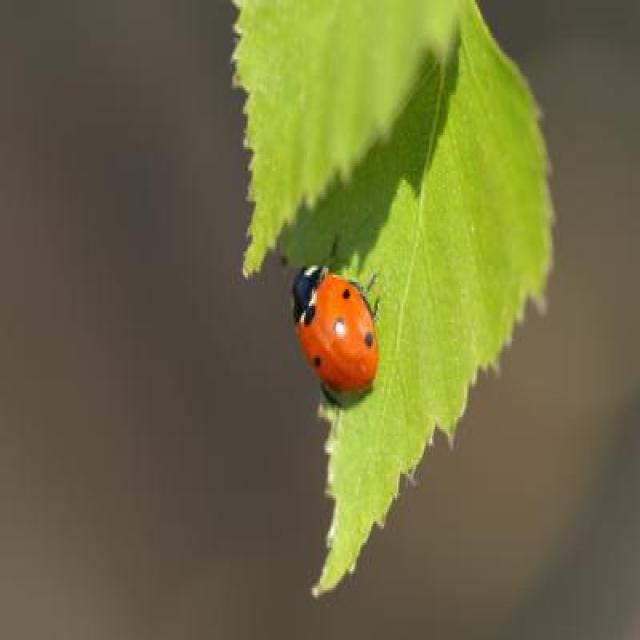body: (290, 262, 378, 395)
insect: (288, 238, 382, 410)
legs: (322, 230, 390, 313)
wings: (296, 276, 377, 388)
